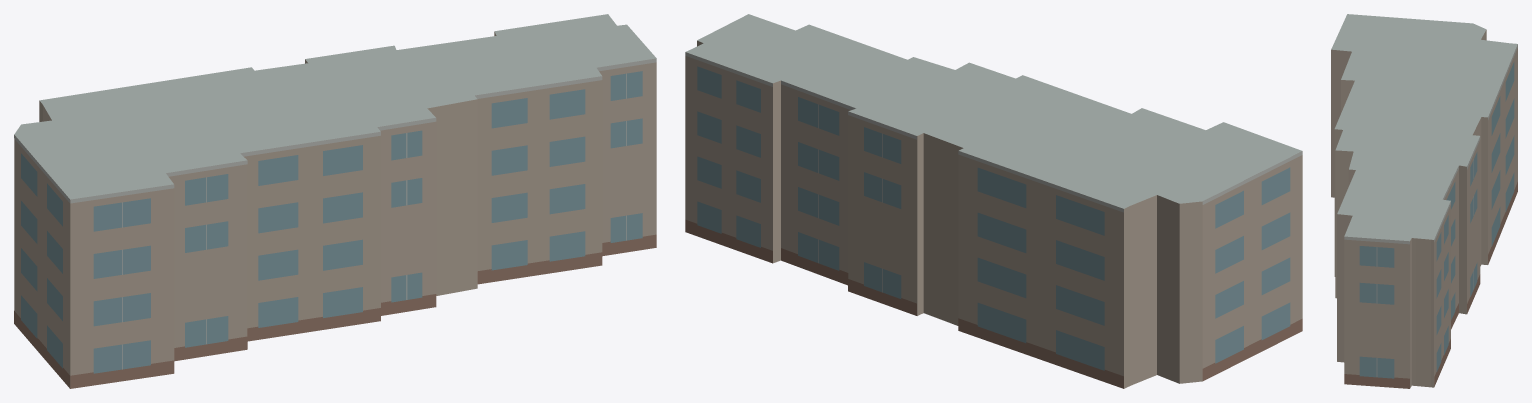
Rendered from survey-upis-32895225.glb.
3 views of the same model, side by side, from view 1: azimuth 30°, elevation 25°; view 2: azimuth 150°, elevation 25°; view 3: azimuth 270°, elevation 25° (orthographic). The views are drawn at different scales.
Visible parts, largest first — view 1: survey-upis-32895225.tmp; view 2: survey-upis-32895225.tmp; view 3: survey-upis-32895225.tmp.
Part boxes in pixels (box(x1,y1,x2,y2)): survey-upis-32895225.tmp: box(14, 14, 656, 388); survey-upis-32895225.tmp: box(685, 14, 1302, 388); survey-upis-32895225.tmp: box(1331, 14, 1517, 388).
Bounding box in the file's own units: 38.61 × 11.7 × 13.42.
